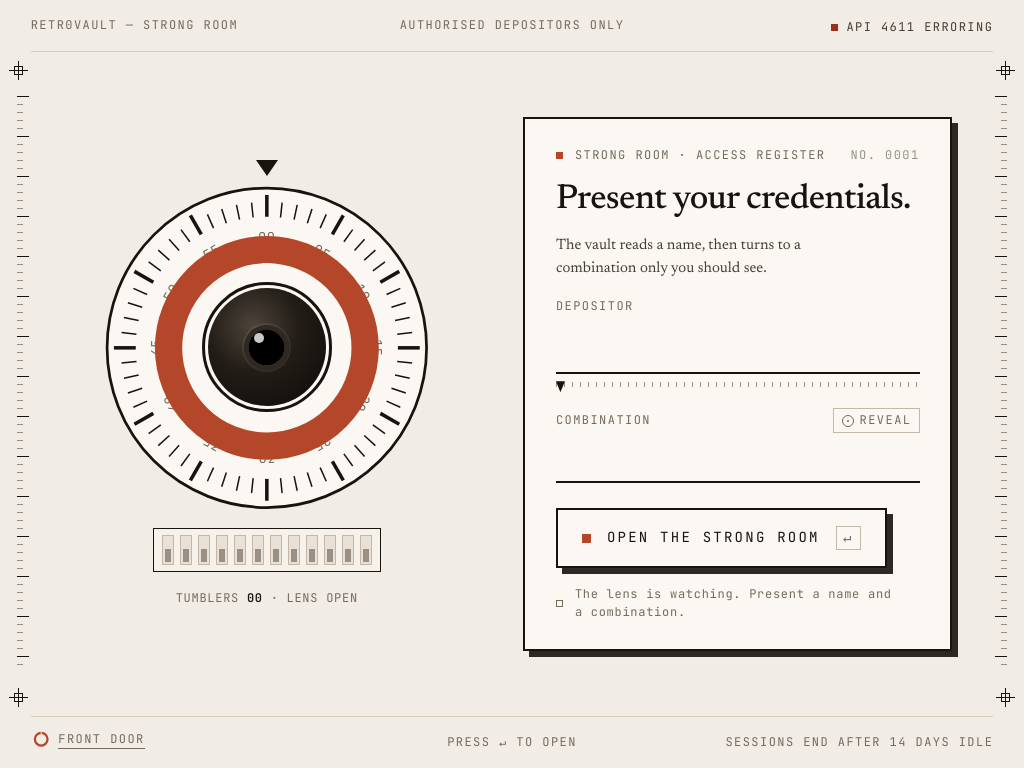
Test case: the strong room › pauses after too many tries, and counts the pause down
Type "Krenuja" into the field labelled "Depositor" at (738, 349), box 556,324 -> 920,374
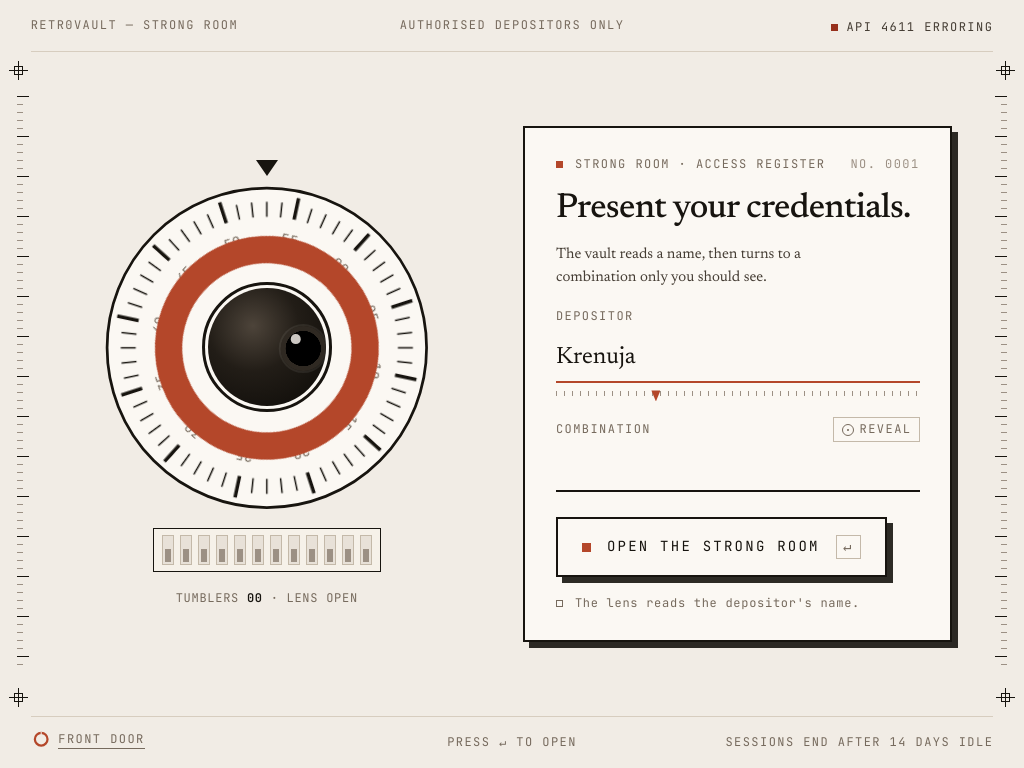
Type "wrong" into the password field labelled "Combination" at (738, 472), box 556,451 -> 920,492
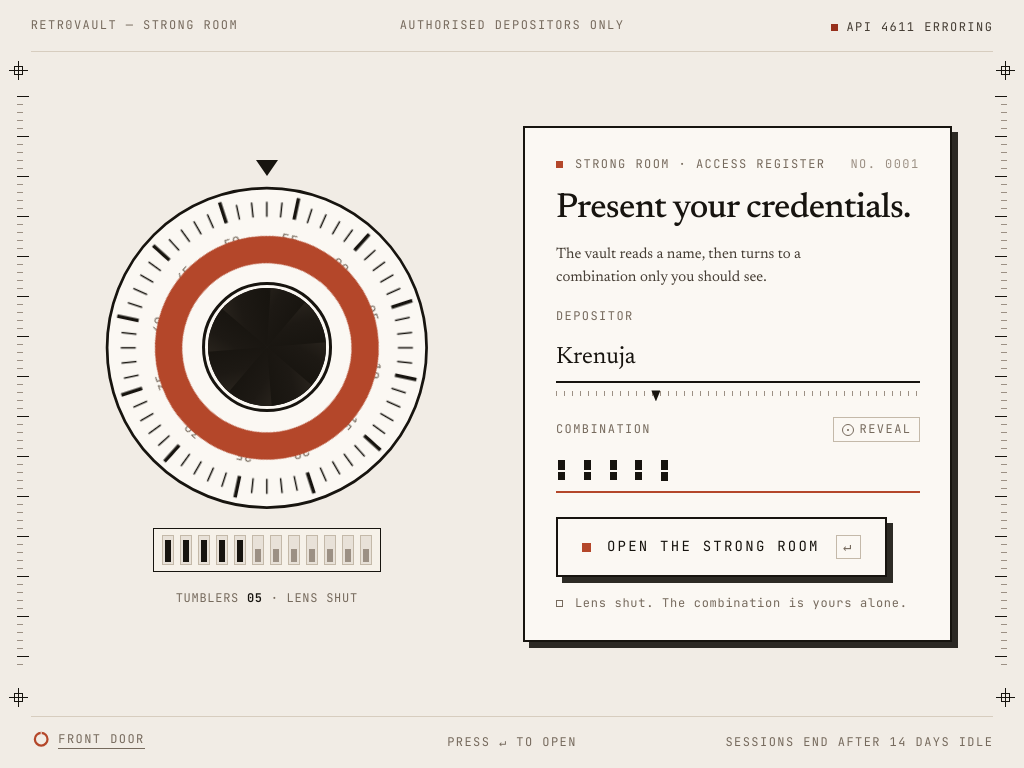
Click the button "Open the strong room ↵" at (721, 547), box 556,518 -> 887,577
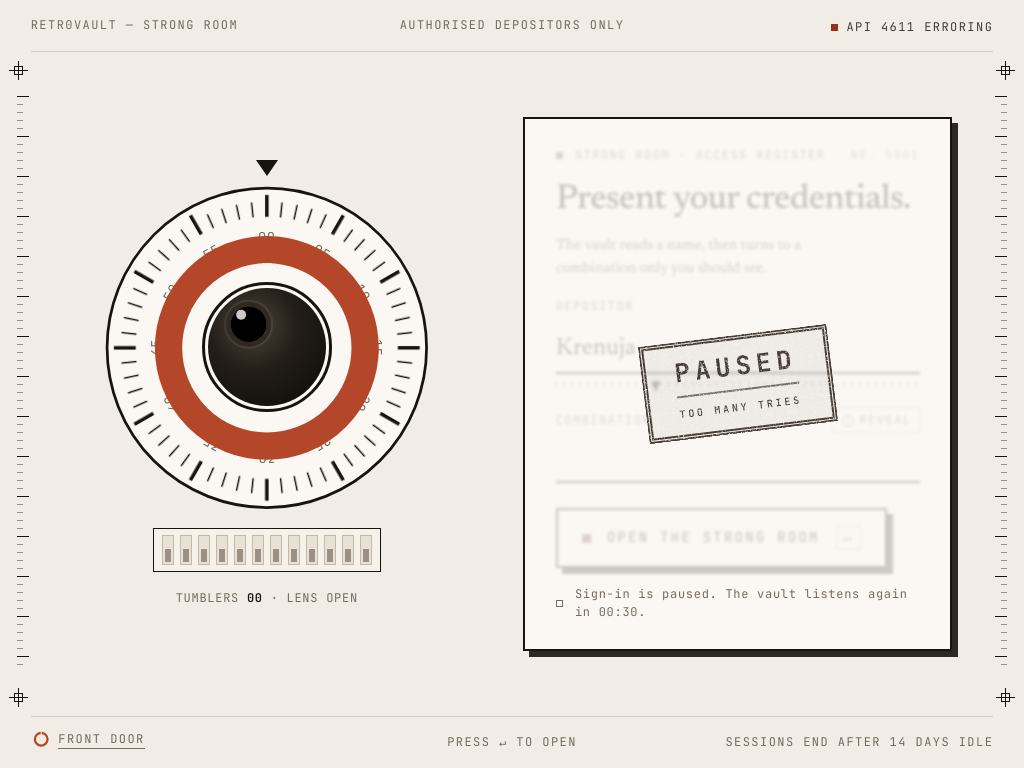
Result: the message "Sign-in is paused. The vault listens again in 00:30." is shown at 556,585 -> 920,622
Result: the button "Open the strong room ↵" is disabled at 556,508 -> 887,568
